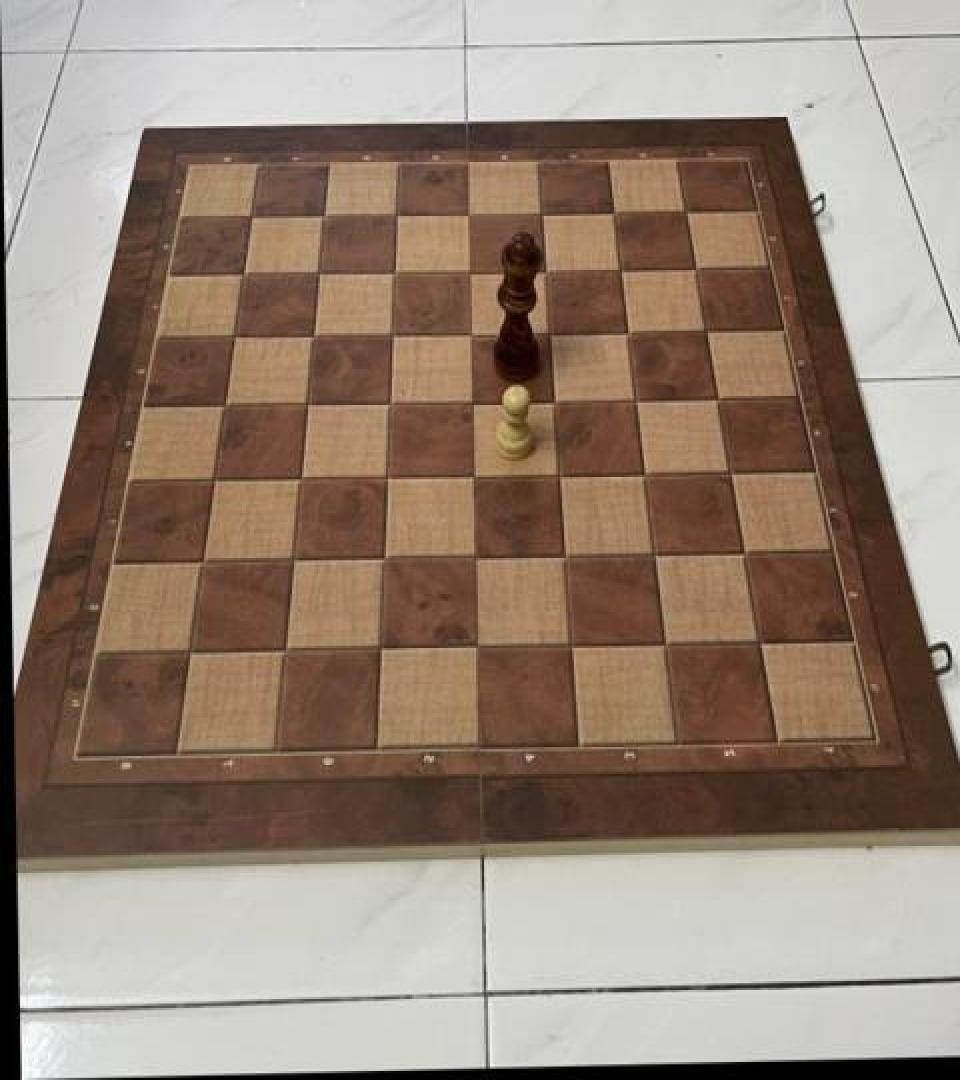xcorner: (220, 317, 254, 356), (300, 317, 334, 356), (632, 454, 666, 493), (558, 625, 592, 664), (237, 197, 271, 235), (311, 196, 345, 234), (385, 196, 419, 234), (458, 196, 492, 234), (531, 196, 565, 234), (603, 196, 637, 234), (674, 196, 708, 234), (229, 255, 263, 293), (306, 255, 340, 293), (383, 253, 417, 291), (459, 253, 493, 291), (534, 253, 568, 291), (609, 252, 643, 290), (684, 252, 718, 290), (380, 316, 414, 354), (459, 315, 493, 353), (538, 315, 572, 353), (616, 314, 650, 352), (694, 314, 728, 352), (210, 386, 244, 424), (294, 385, 328, 423), (377, 384, 411, 422), (460, 384, 494, 422), (542, 382, 576, 420), (624, 382, 658, 420), (705, 380, 739, 418), (199, 462, 233, 500), (287, 459, 321, 497), (375, 458, 409, 496), (461, 457, 495, 495), (547, 456, 581, 494), (717, 454, 751, 492), (188, 544, 222, 582), (280, 541, 314, 579), (371, 540, 405, 578), (462, 538, 496, 576), (552, 537, 586, 575), (642, 536, 676, 574), (730, 534, 764, 572), (175, 634, 209, 672), (272, 631, 306, 669), (368, 630, 402, 668), (463, 628, 497, 666), (652, 624, 686, 662), (745, 621, 779, 659)
